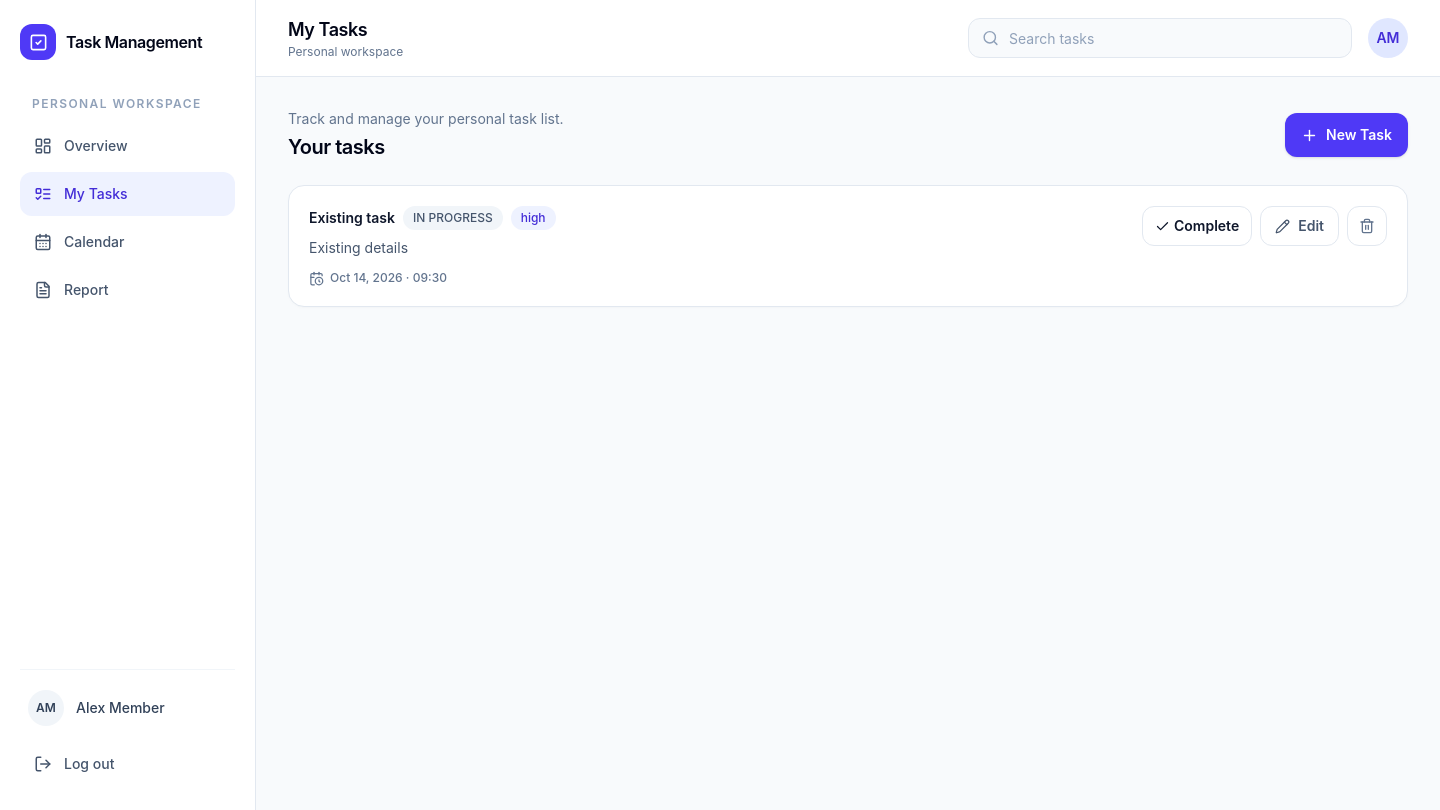
personal task dialog › prefills edits with local deadline fields and replaces the task without duplication
Click the button with aria-label "Edit Existing task": (1300, 226) x1=1260 y1=206 x2=1339 y2=246
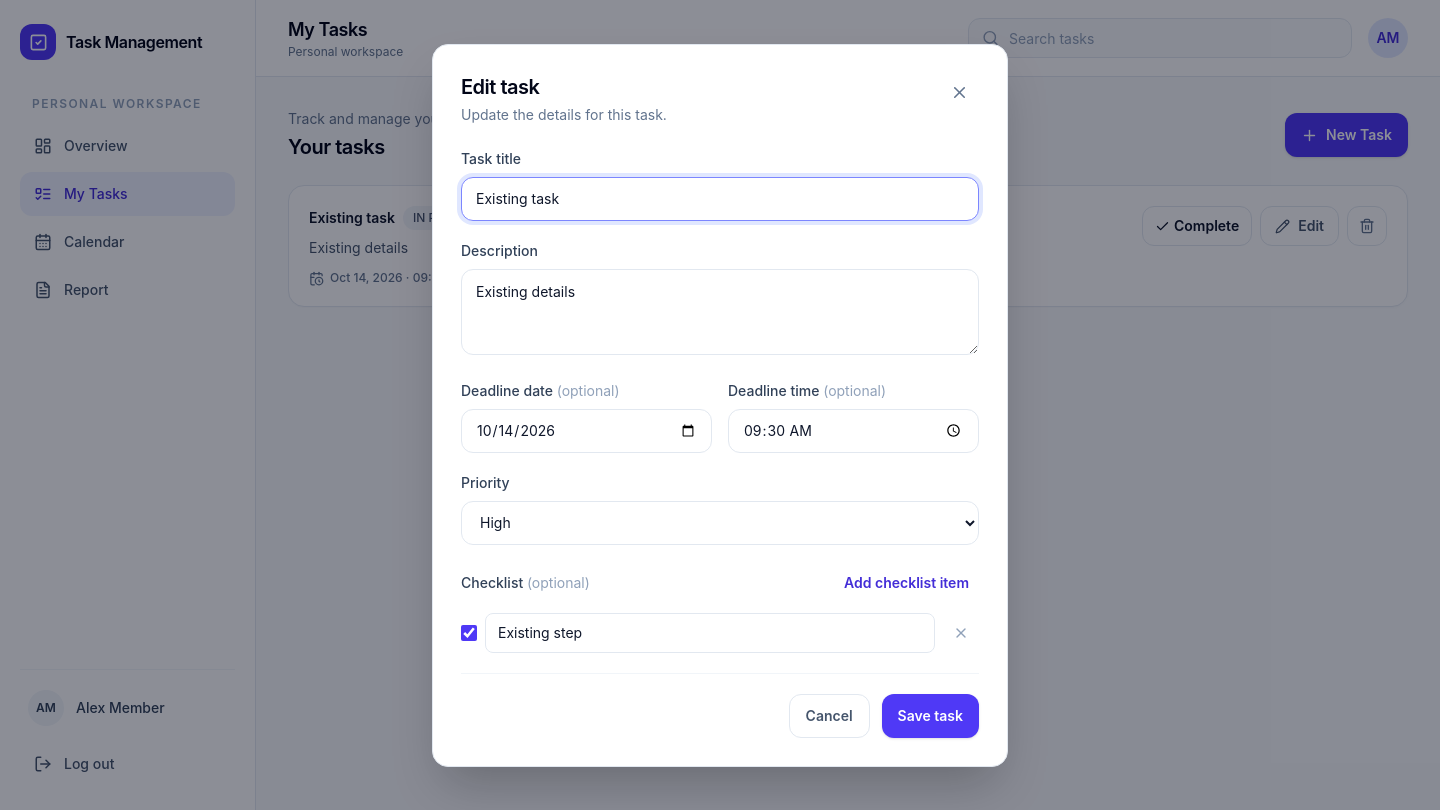
Expected: the field labelled "Task title" holds "Existing task"
Expected: the text box labelled "Description" holds "Existing details", x1=461 y1=268 x2=979 y2=354
Expected: the date field labelled "Deadline date (optional)" holds "2026-10-14", x1=461 y1=408 x2=712 y2=452
Replace the text in the field labelled "Task title" with "Updated task": (720, 198) x1=461 y1=176 x2=979 y2=220
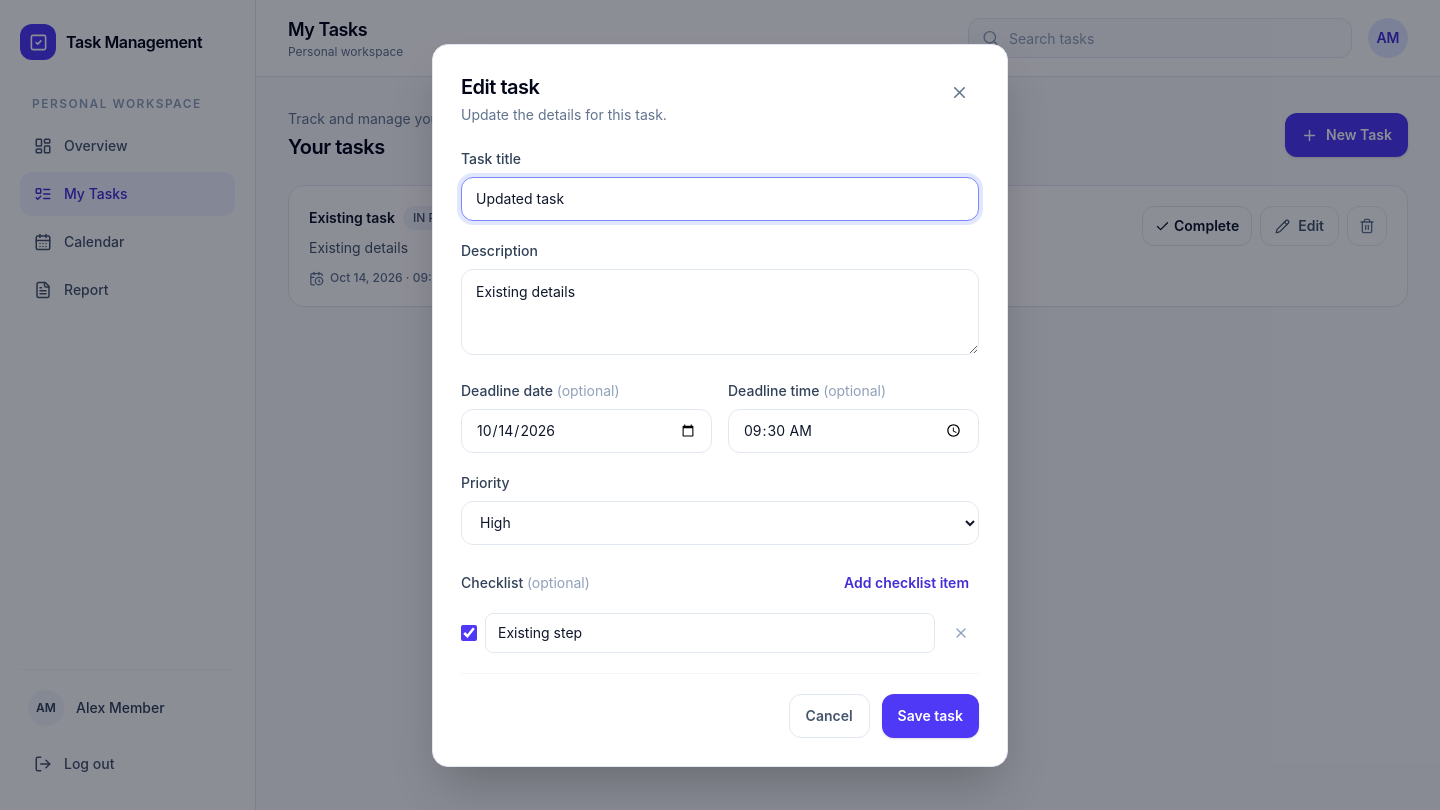
Click the button "Save task": (930, 716) x1=882 y1=694 x2=979 y2=738
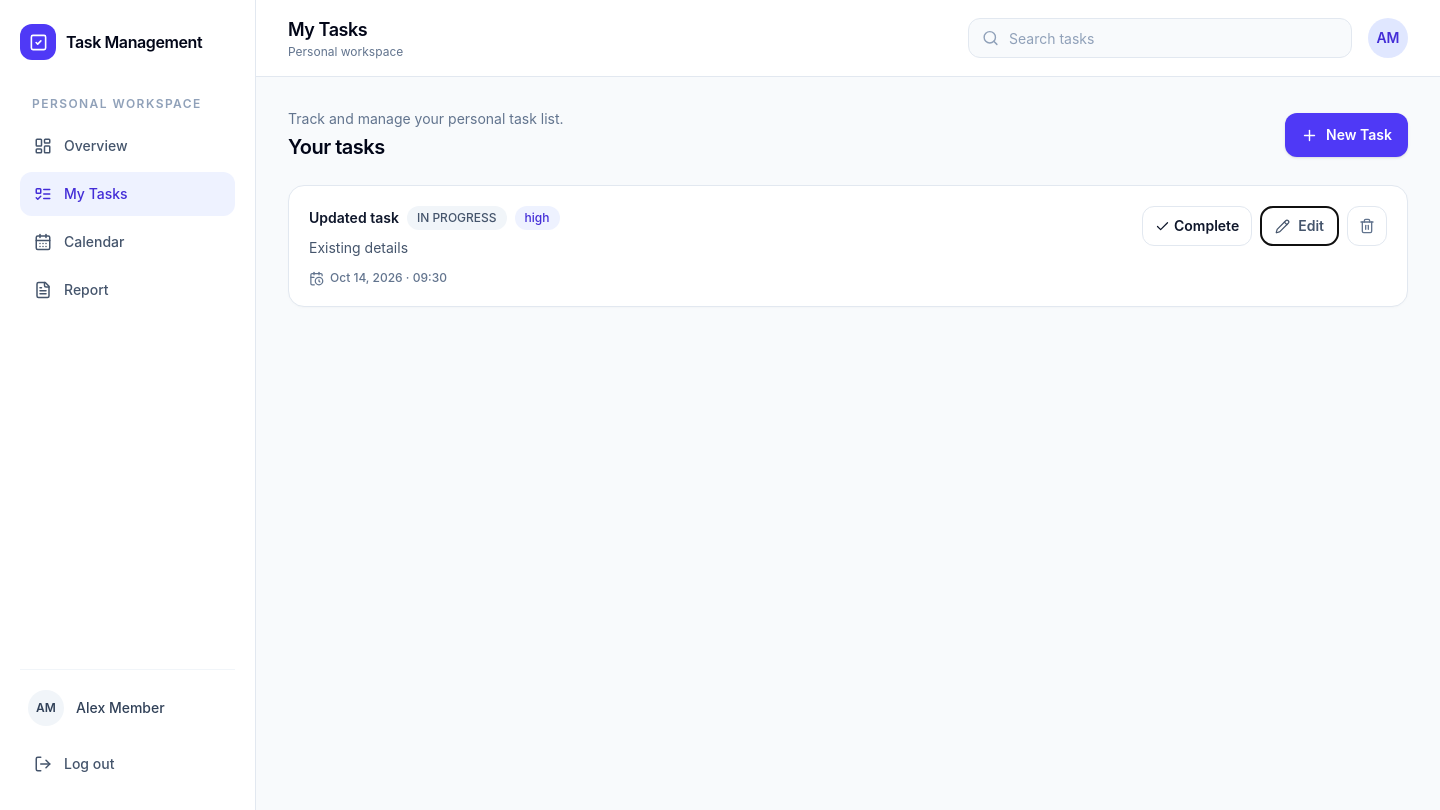
Expected: the number of headings "Updated task" is 1, x1=309 y1=208 x2=399 y2=228
Expected: the dialog is gone
Expected: the heading "Existing task" is gone
